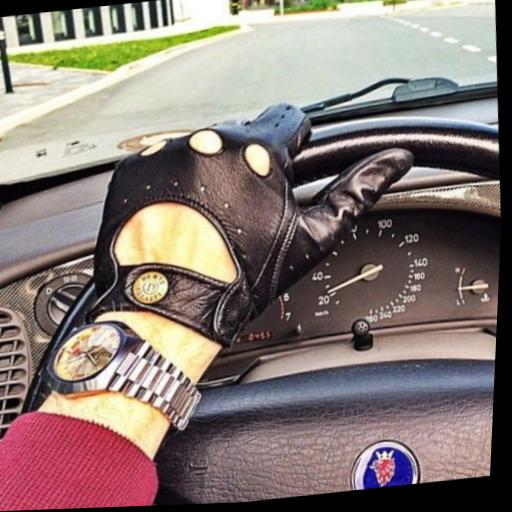Hands-on-the-Wheel: (35, 72, 460, 428)
